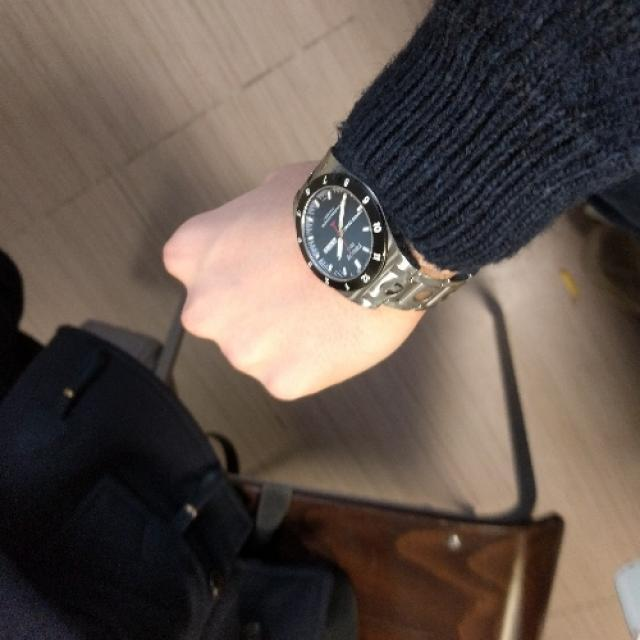fist: (160, 161, 423, 400)
